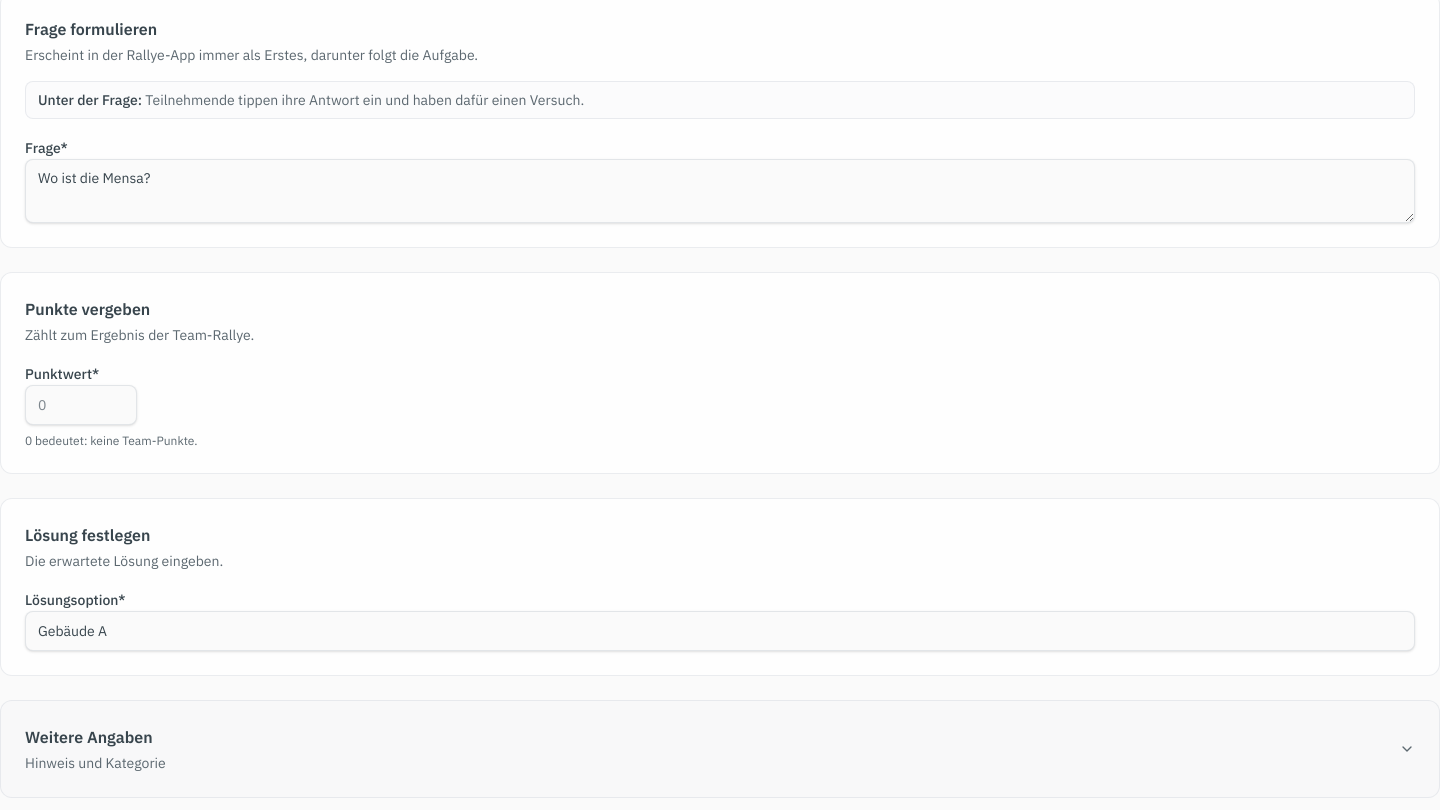
QuestionForm › rejects a decimal point value with a clear message
This screenshot has width=1440, height=810.
(page scrolled)
Type "2.5" into the number field labelled "Punktwert*" at (81, 405), box [25,385,137,425]
(page scrolled)
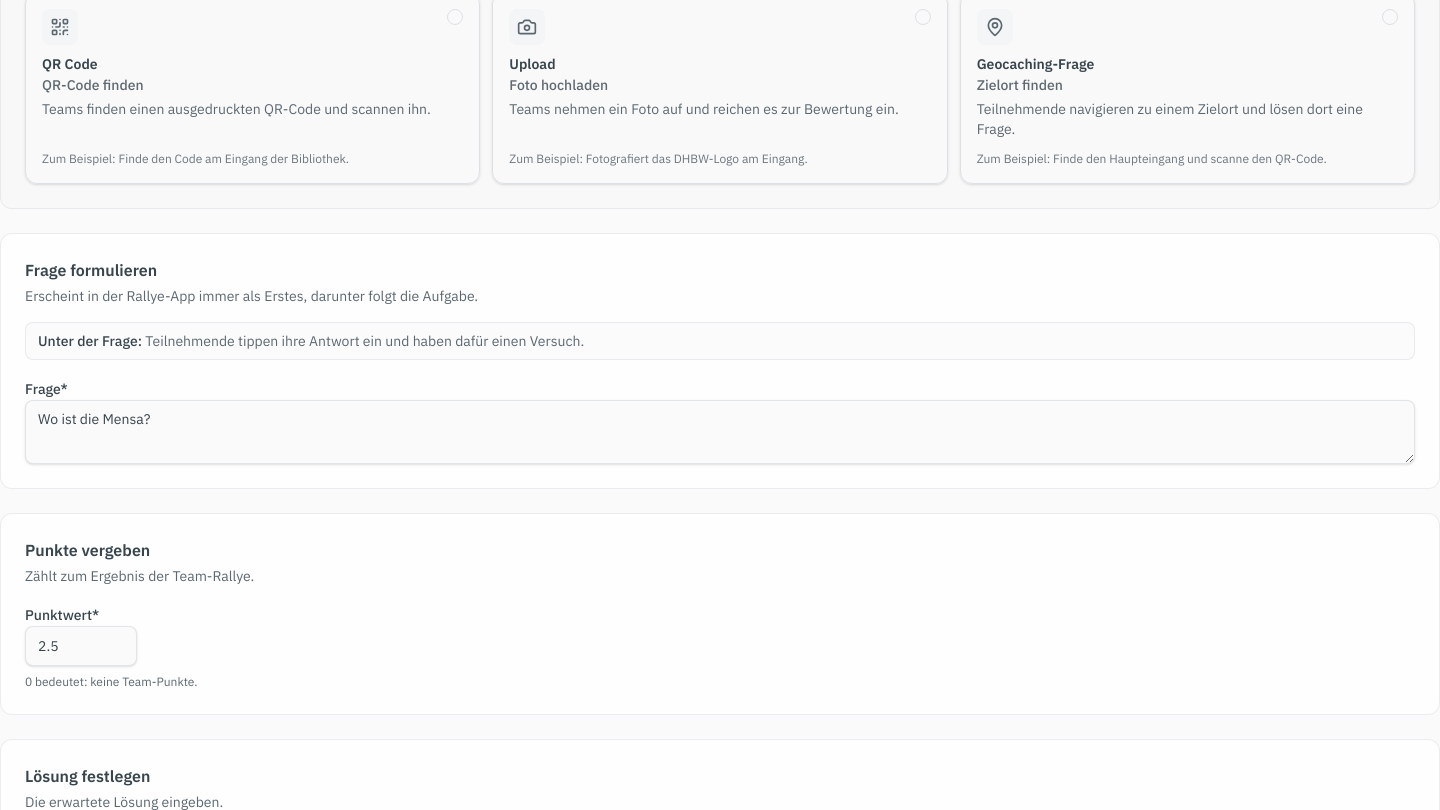
Submit the form named "Speichern"
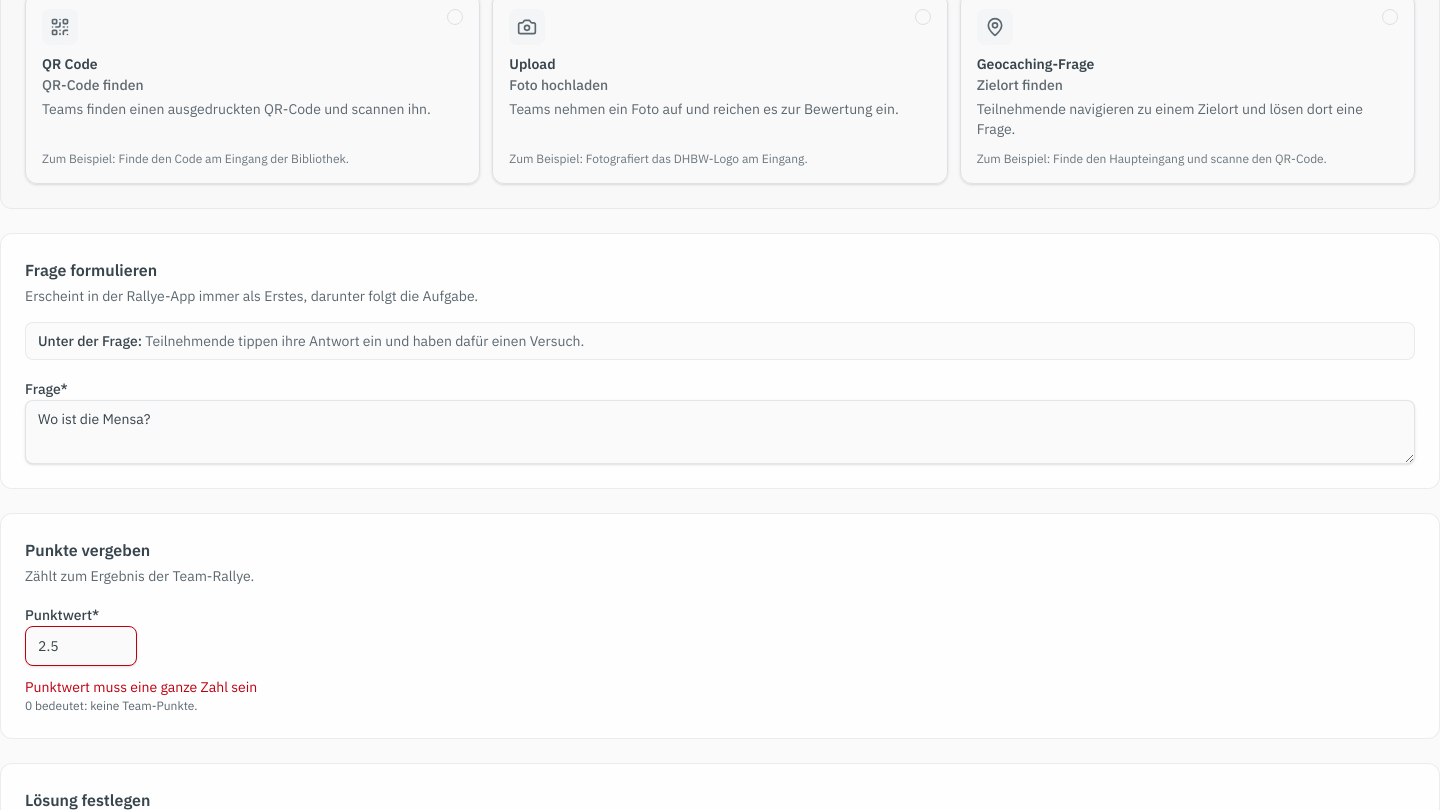
Check: the text "Punktwert muss eine ganze Zahl sein" is shown, box [25,678,257,696]
